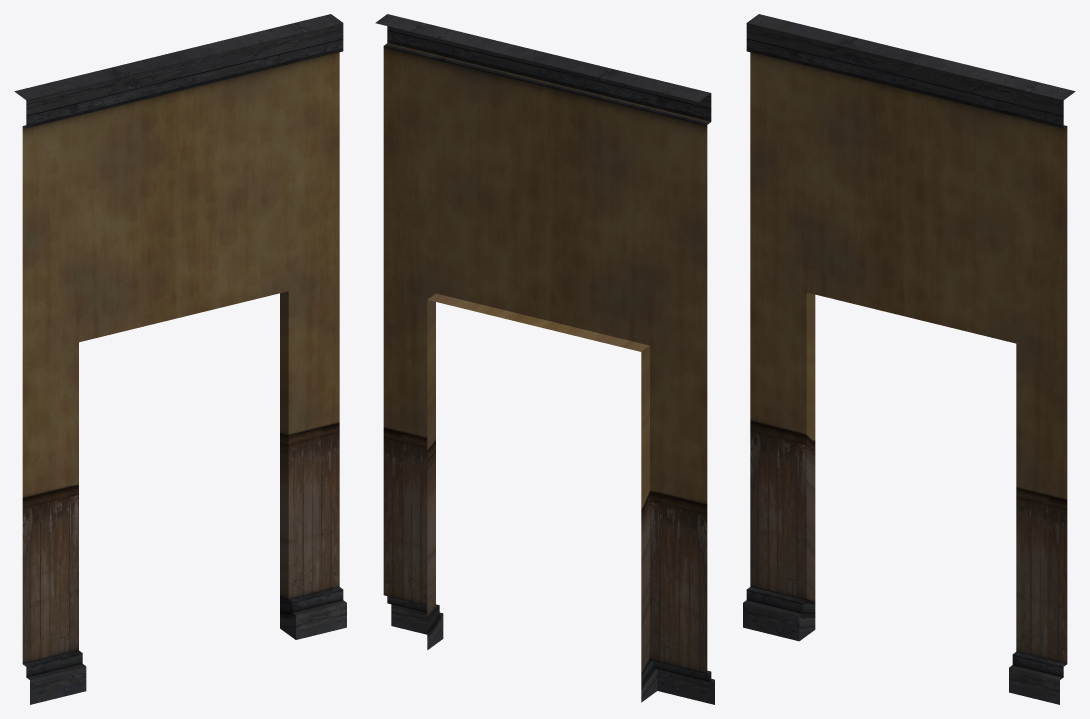
File: Wall_DoorWay.FBX
3 views of the same model, side by side, from view 1: azimuth 30°, elevation 25°; view 2: azimuth 150°, elevation 25°; view 3: azimuth 330°, elevation 25° (orthographic). The views are drawn at different scales.
Parts seen in each view (by area): view 1: Wall_DoorSegment_5u; view 2: Wall_DoorSegment_5u; view 3: Wall_DoorSegment_5u.
Part boxes in pixels (x1,y1,x2,y2): Wall_DoorSegment_5u: (14,14,346,704); Wall_DoorSegment_5u: (375,14,714,704); Wall_DoorSegment_5u: (743,14,1075,704).
Size of the model in its own units: 2.5 by 4.54 by 0.2165.
